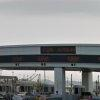Bridge: (5, 34, 95, 79)
